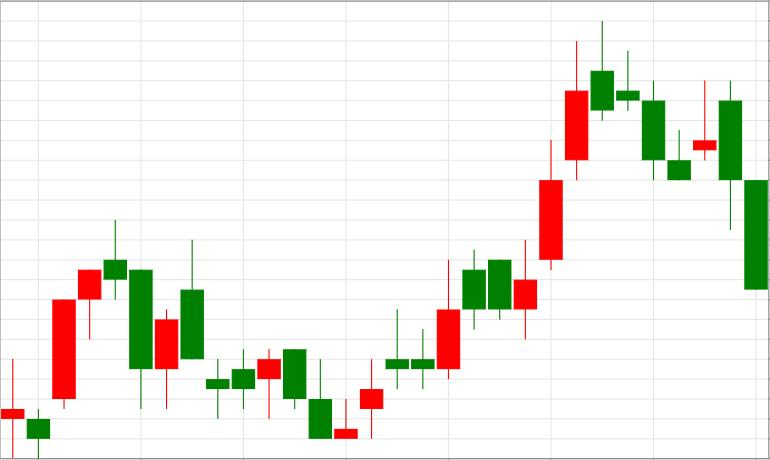shooting_star_fall: (513, 21, 614, 338), (27, 218, 127, 459)
